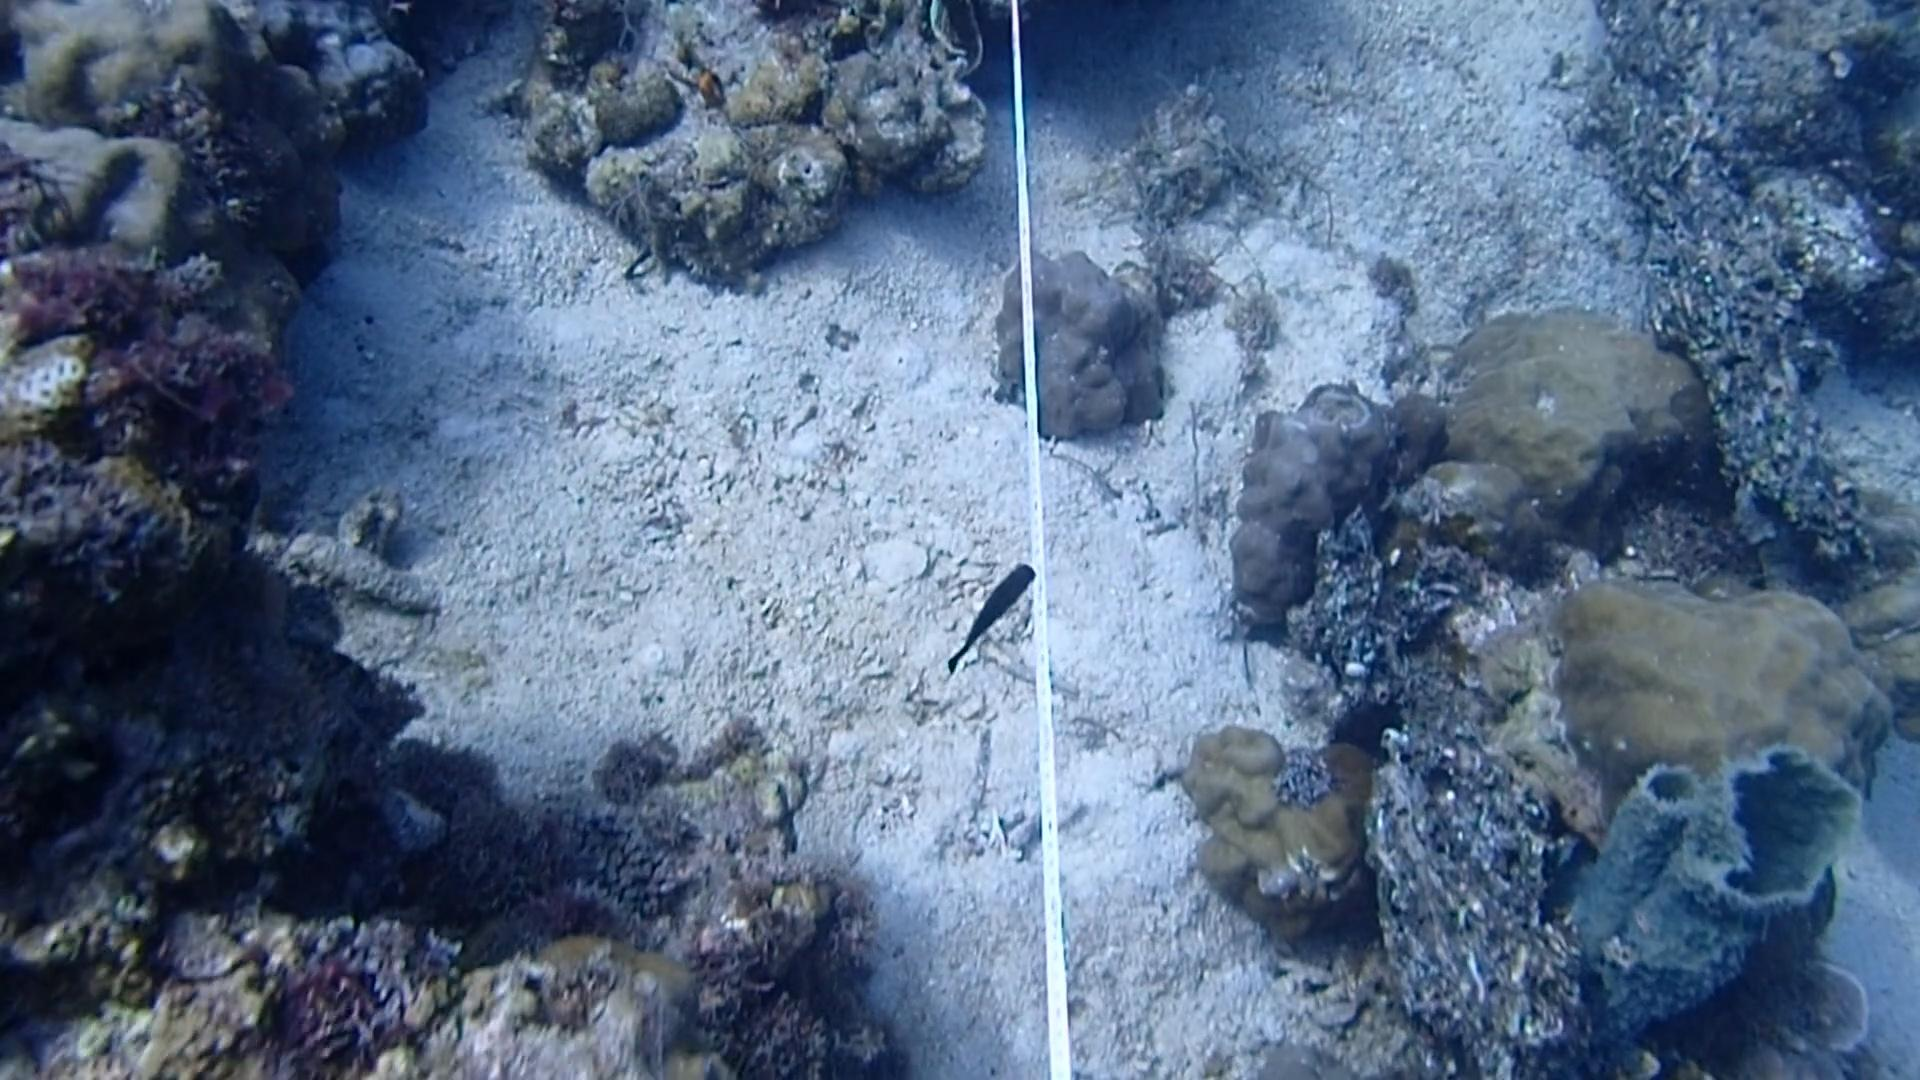Dark Fish: (936, 554, 1042, 698)
